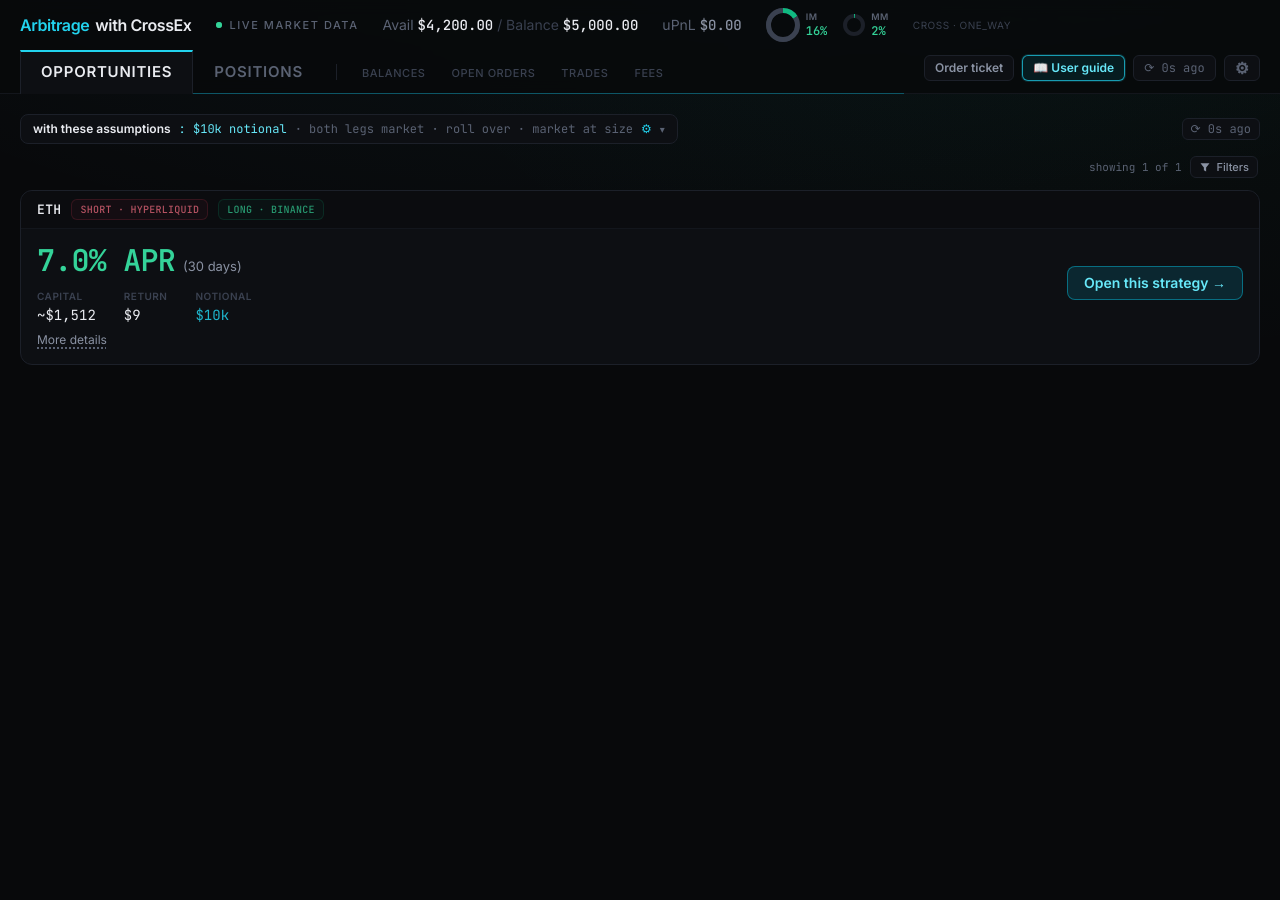
Scenario: user guide › is not fetched until the guide is actually opened
Expected: the element named "Sections" is shown, [20,50,676,94]
Click the button "📖 User guide" at (1074, 68), box [1022,55,1125,81]
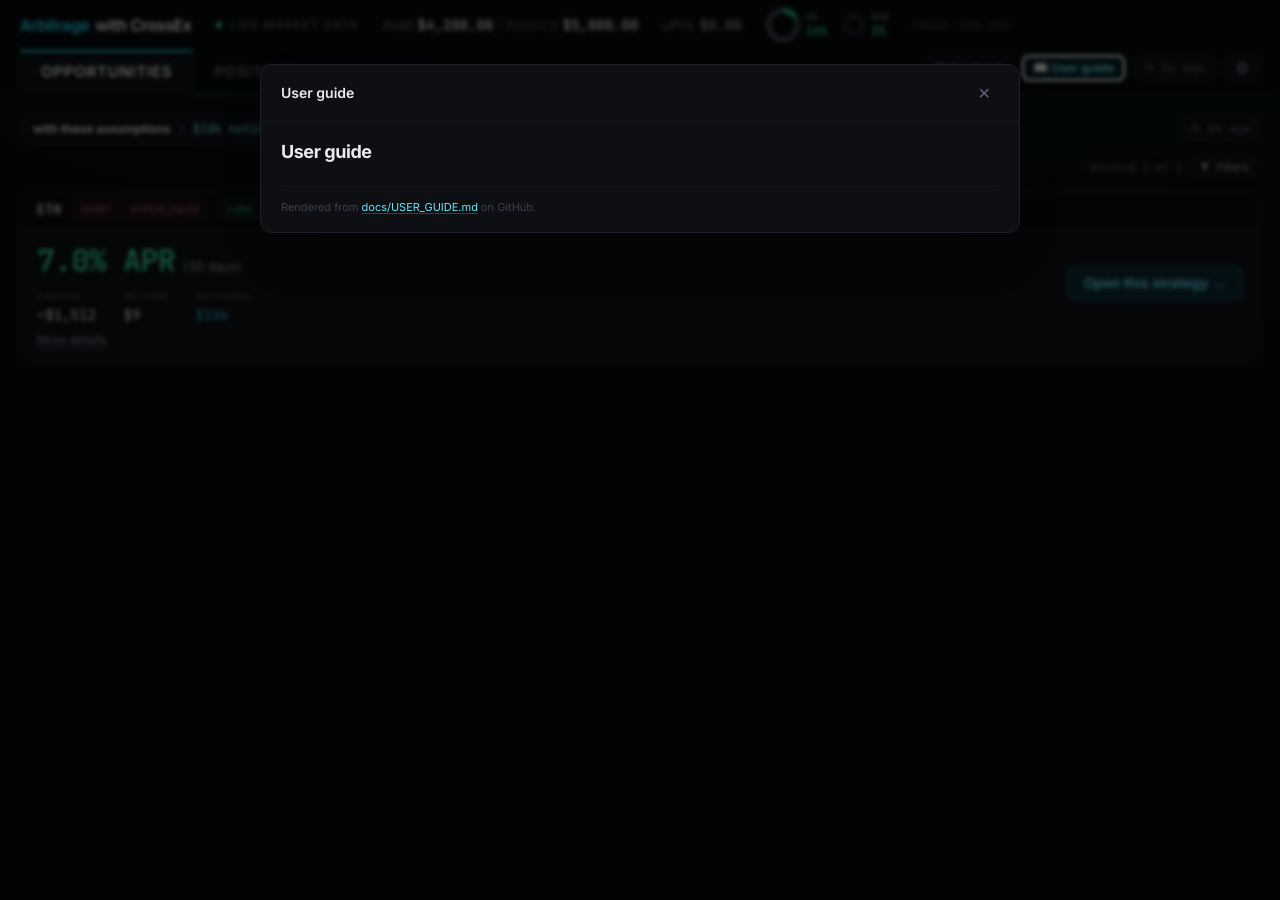
Expected: the dialog is shown
